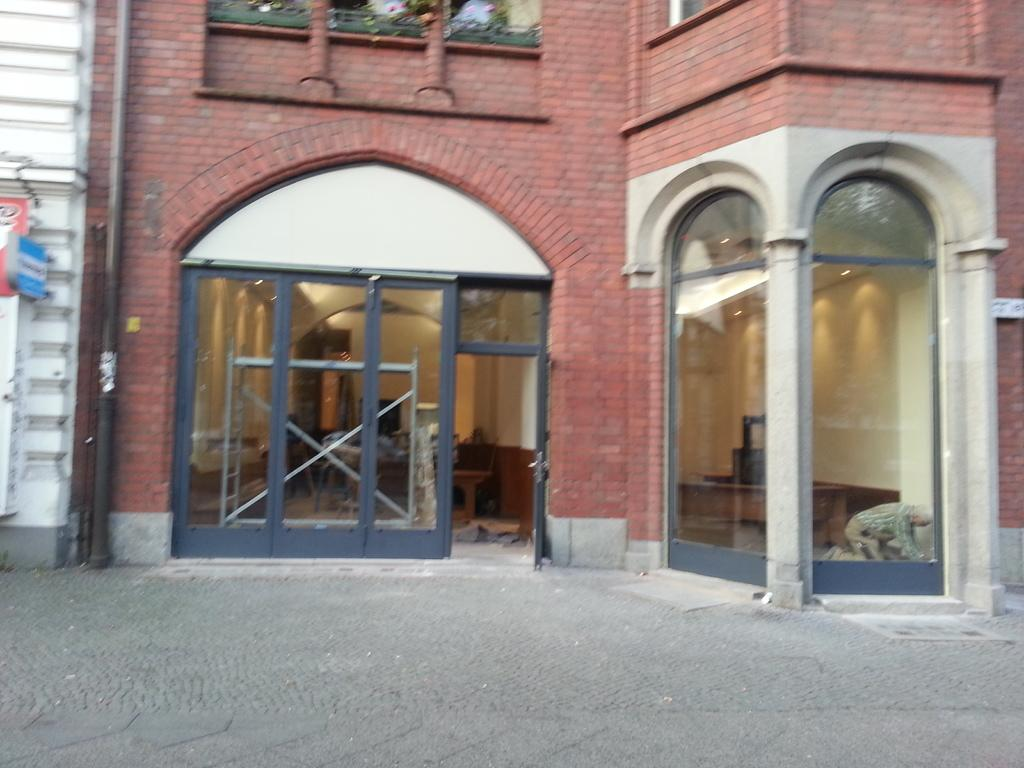handle: (526, 450, 548, 486)
